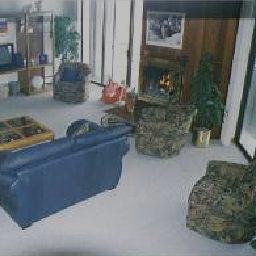Matera: (191, 58, 225, 149)
